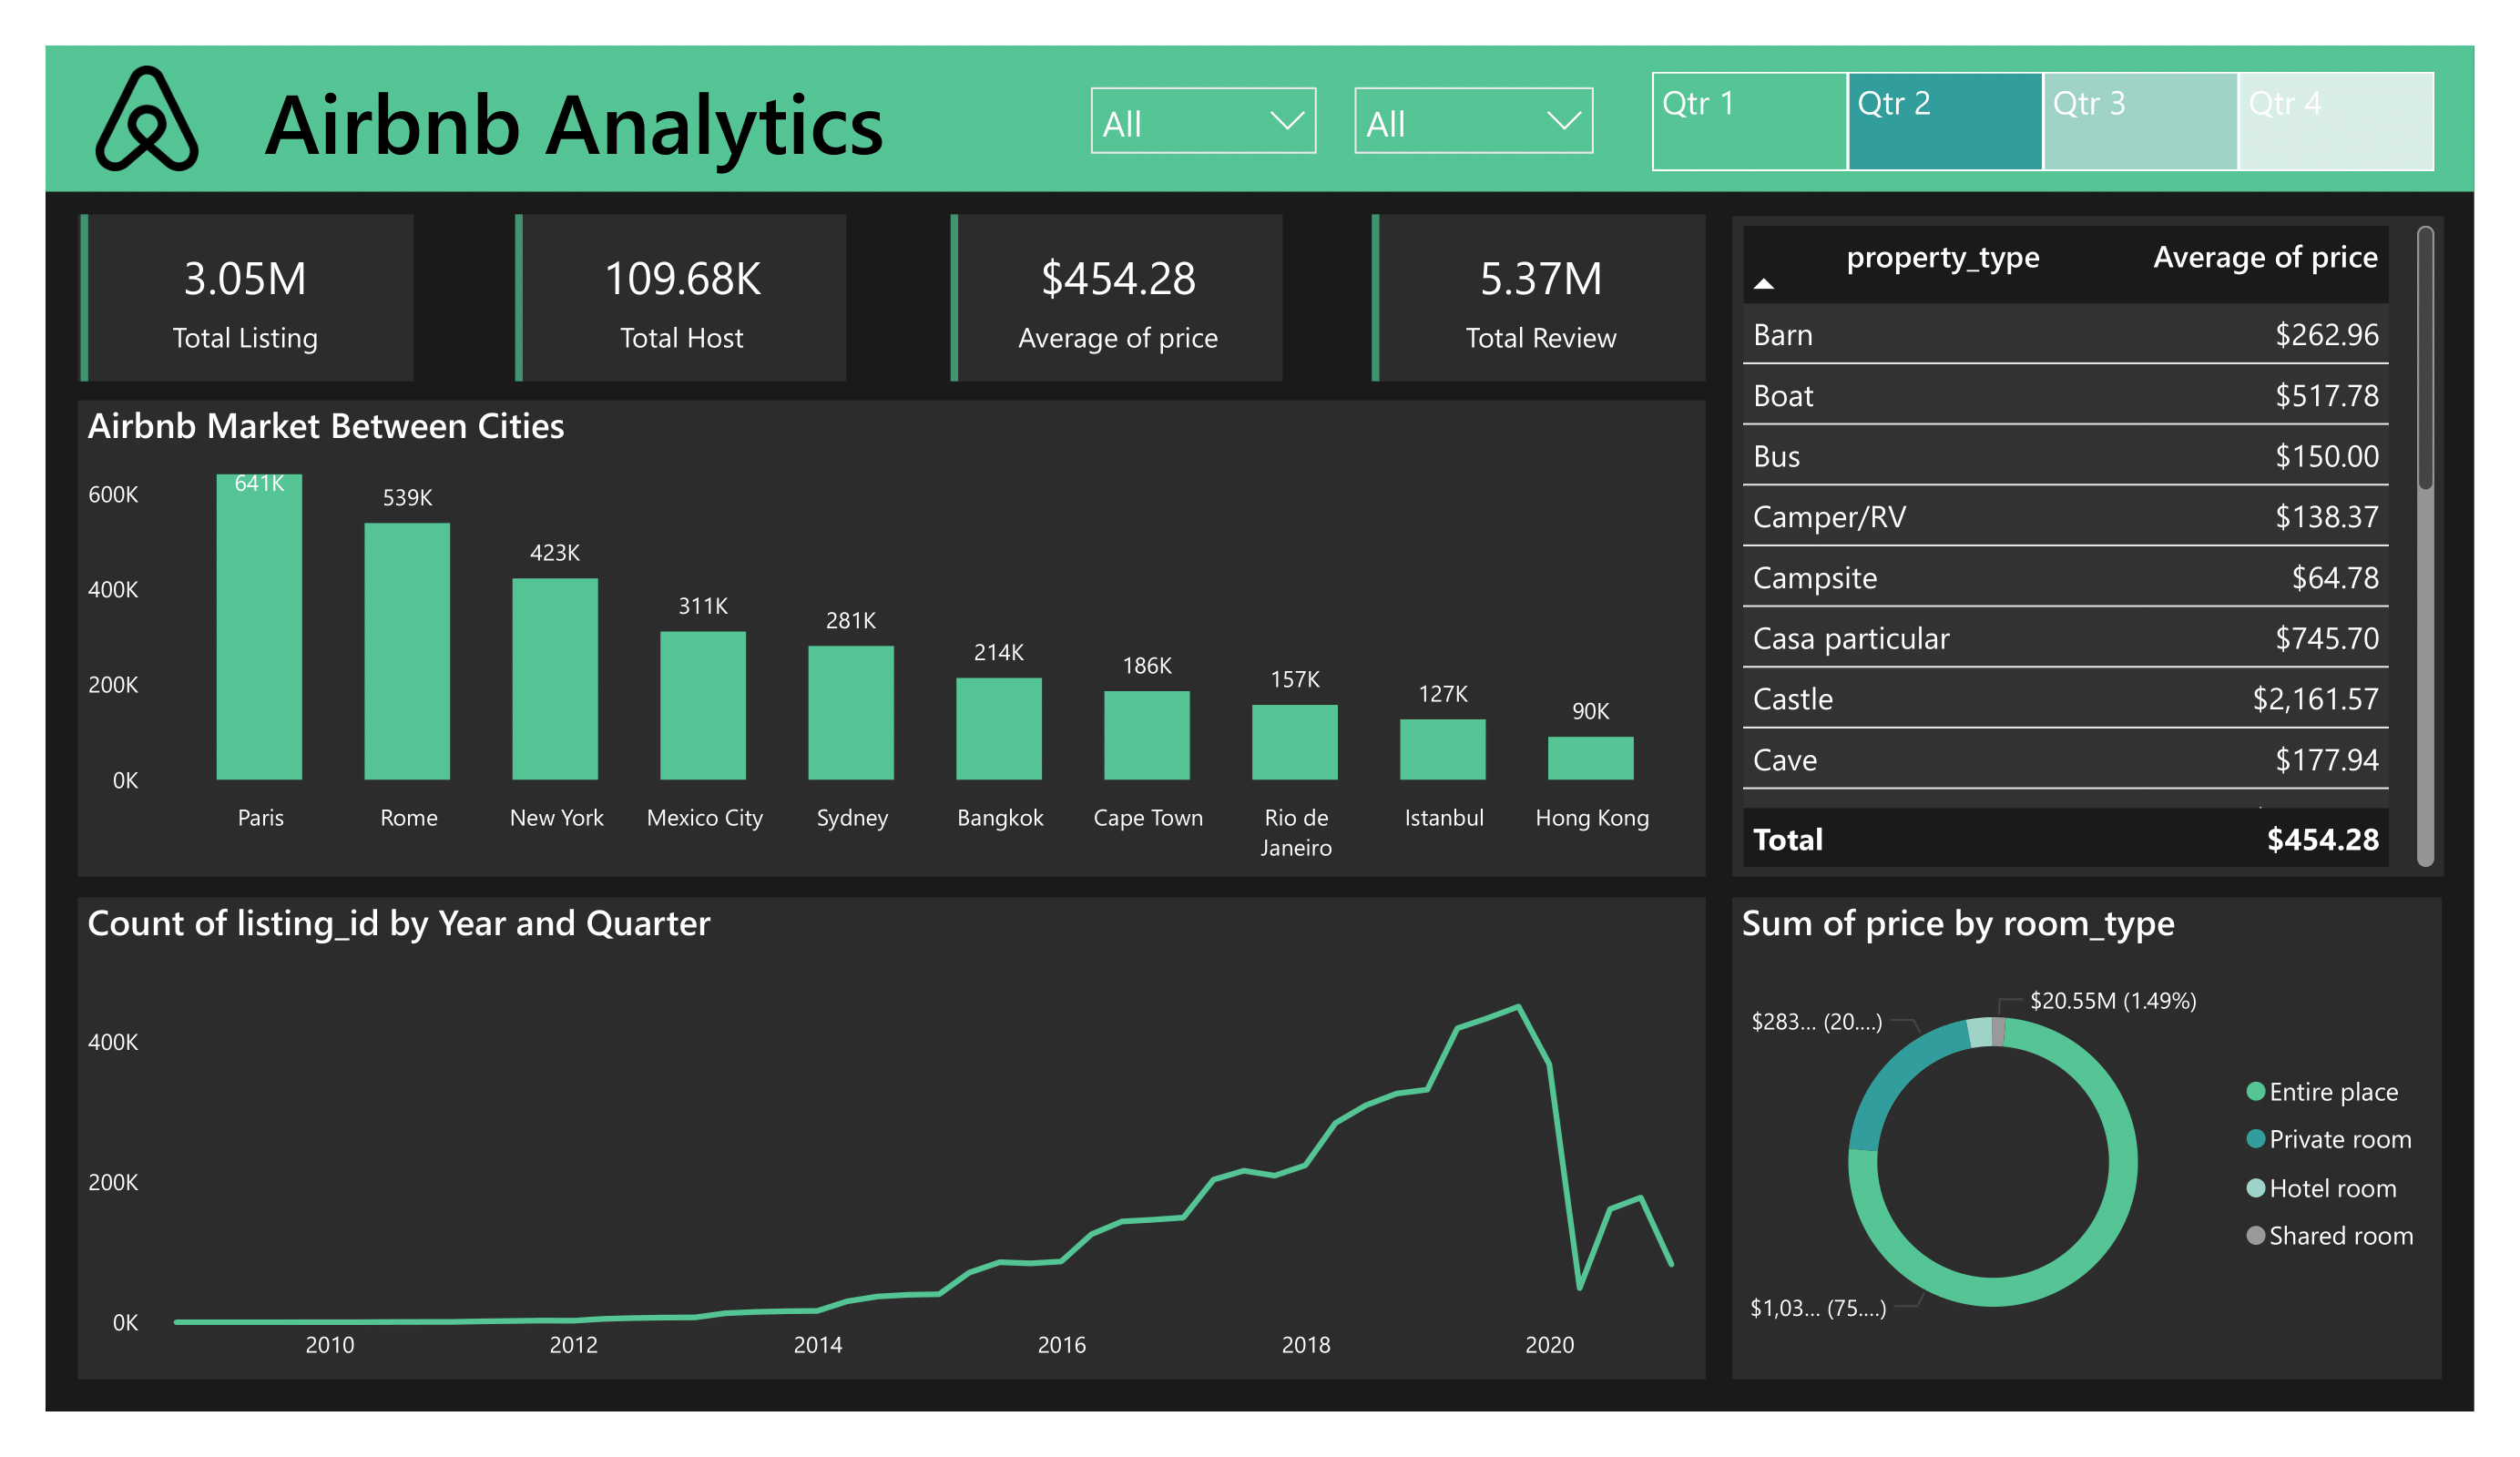

Layout of this report page (visuals, bound fields, positions):
{"tool":"powerbi","page":{"name":"Practice","canvas":[1280,720],"ordinal":4},"visuals":[{"type":"columnChart","title":"Airbnb Market Between Cities","fields":{"Category":["Airbnb.city"],"Y":["CountNonNull(Airbnb.review_scores_location)"]},"box":[17,187.1,857.6,250.9],"z":0},{"type":"donutChart","fields":{"Y":["Sum(Airbnb.price)"],"Category":["Airbnb.room_type"]},"box":[888.8,449.3,374.2,253.7],"z":1000},{"type":"shape","title":"Airbnb Analytics","box":[0,0,1280,76.7],"z":2000},{"type":"lineChart","fields":{"Y":["CountNonNull(Reviews.listing_id)"],"Category":["Reviews.date.Variation.Date Hierarchy.Year","Reviews.date.Variation.Date Hierarchy.Quarter"]},"box":[17,449.3,857.6,253.7],"z":4000},{"type":"card","fields":{"Values":["CountNonNull(Airbnb.listing_id)"]},"box":[17,89.3,177.2,87.9],"z":5000},{"type":"card","fields":{"Values":["Count(Airbnb.host_id)"]},"box":[249.5,89.3,172.9,87.9],"z":6000},{"type":"card","fields":{"Values":["Avg(Airbnb.price)"]},"box":[479.1,89.3,172.9,87.9],"z":7000},{"type":"card","fields":{"Values":["CountNonNull(Reviews.reviewer_id)"]},"box":[701.7,89.3,172.9,87.9],"z":8000},{"type":"shape","box":[0,89.3,41.1,87.9],"z":9000},{"type":"shape","box":[225.4,89.3,48.2,87.9],"z":10000},{"type":"shape","box":[680.4,89.3,41.1,87.9],"z":11000},{"type":"shape","box":[462.1,89.3,34,87.9],"z":12000},{"type":"treemap","fields":{"Values":["CountNonNull(Airbnb.listing_id)"],"Group":["Reviews.date.Variation.Date Hierarchy.Quarter"]},"box":[842,8.8,421.8,61.9],"z":13000},{"type":"image","box":[0,5.9,106.2,64.9],"z":14000},{"type":"slicer","fields":{"Values":["Reviews.date.Variation.Date Hierarchy.Year"]},"box":[679.8,11.8,146,56],"z":15000},{"type":"slicer","fields":{"Values":["Airbnb.property_type"]},"box":[541.2,11.8,138.6,56],"z":16000},{"type":"tableEx","fields":{"Values":["Airbnb.property_type","Airbnb.price"]},"box":[889.2,90,374.6,348],"z":16001}]}

Visuals, with their boxes on the page's 1280x720 design canvas (x1, y1, x2, y2). These are canvas units, not pixel positions in the 2520x1457 screenshot, which may show the page scaled, cropped or inside an application window:
"Airbnb Market Between Cities" columnChart: <box>17,187,875,438</box>
donutChart - Sum(Airbnb.price) x Airbnb.room_type: <box>889,449,1263,703</box>
"Airbnb Analytics" shape: <box>0,0,1280,77</box>
lineChart - CountNonNull(Reviews.listing_id) x Reviews.date.Variation.Date Hierarchy.Year: <box>17,449,875,703</box>
card - CountNonNull(Airbnb.listing_id): <box>17,89,194,177</box>
card - Count(Airbnb.host_id): <box>250,89,422,177</box>
card - Avg(Airbnb.price): <box>479,89,652,177</box>
card - CountNonNull(Reviews.reviewer_id): <box>702,89,875,177</box>
shape: <box>0,89,41,177</box>
shape: <box>225,89,274,177</box>
shape: <box>680,89,722,177</box>
shape: <box>462,89,496,177</box>
treemap - CountNonNull(Airbnb.listing_id) x Reviews.date.Variation.Date Hierarchy.Quarter: <box>842,9,1264,71</box>
image: <box>0,6,106,71</box>
slicer - Reviews.date.Variation.Date Hierarchy.Year: <box>680,12,826,68</box>
slicer - Airbnb.property_type: <box>541,12,680,68</box>
tableEx - Airbnb.property_type x Airbnb.price: <box>889,90,1264,438</box>
